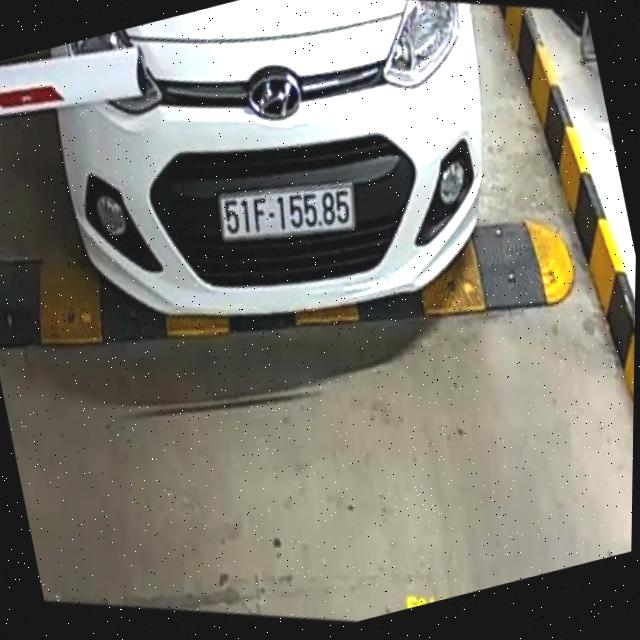car: (29, 0, 527, 382)
plate: (205, 153, 366, 268)
